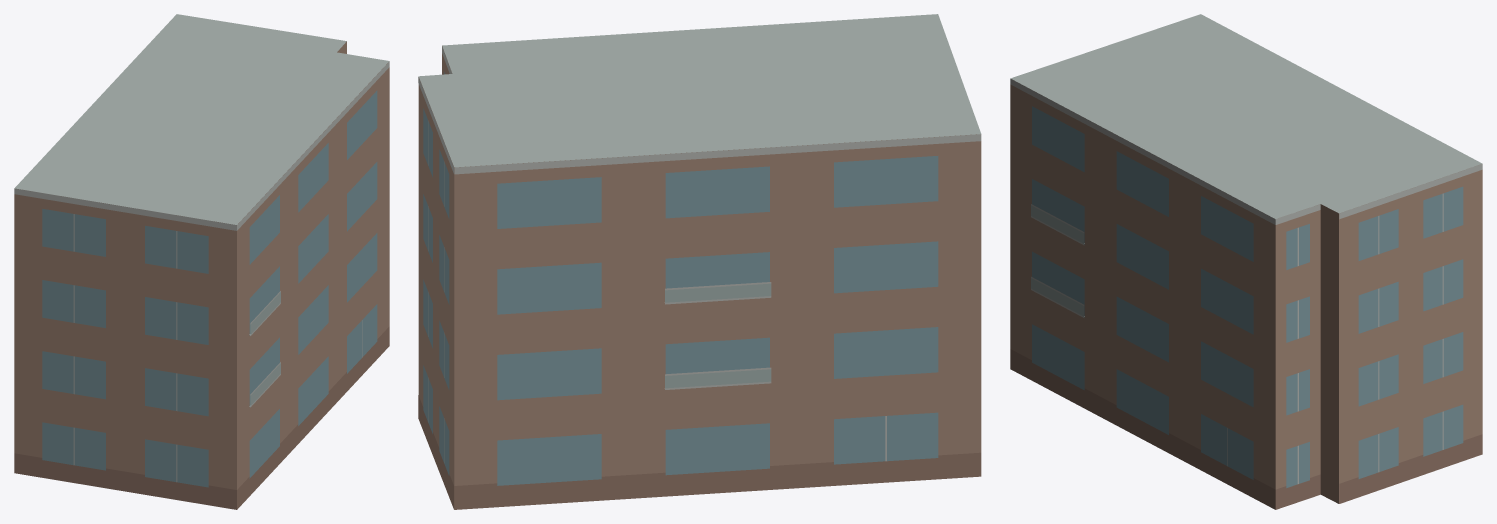
Rendered from survey-upis-33042770.glb.
3 renders of one model, left to right at view 1: azimuth 30°, elevation 25°; view 2: azimuth 150°, elevation 25°; view 3: azimuth 270°, elevation 25°, orthographic. The views are drawn at different scales.
Visible parts, largest first — view 1: survey-upis-33042770.tmp; view 2: survey-upis-33042770.tmp; view 3: survey-upis-33042770.tmp.
Boxes of the visible parts, left/top/right/bottom form: survey-upis-33042770.tmp: left=14, top=14, right=389, bottom=509; survey-upis-33042770.tmp: left=418, top=14, right=981, bottom=509; survey-upis-33042770.tmp: left=1010, top=14, right=1482, bottom=509.
Bounding box in the file's own units: 18.02 × 11.9 × 17.53.
